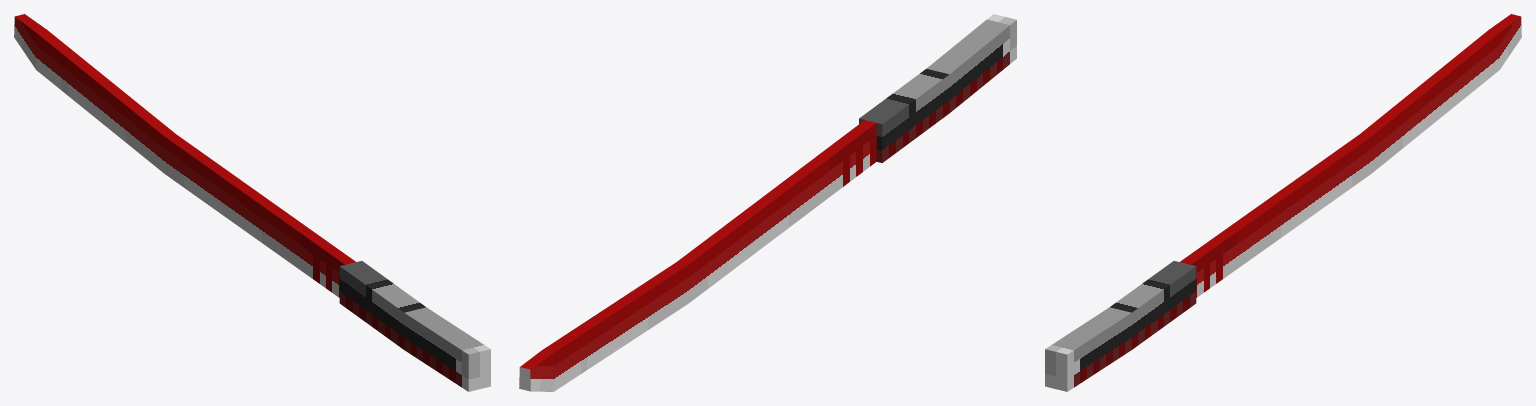
Rendered from daishe.fbx.
3 renders of one model, left to right at view 1: azimuth 30°, elevation 25°; view 2: azimuth 150°, elevation 25°; view 3: azimuth 330°, elevation 25°, orthographic. The views are drawn at different scales.
Parts seen in each view (by area): view 1: cube_1, cube; view 2: cube_1, cube; view 3: cube_1, cube.
Part boxes in pixels (x1,y1,x2,y2): cube_1: (14, 14, 355, 297); cube: (339, 261, 490, 391); cube_1: (519, 120, 876, 391); cube: (859, 14, 1016, 162); cube_1: (1180, 14, 1521, 297); cube: (1045, 261, 1196, 391).
Bounding box in the file's own units: 12.5 × 25.31 × 446.
1 material, 1 textured.
